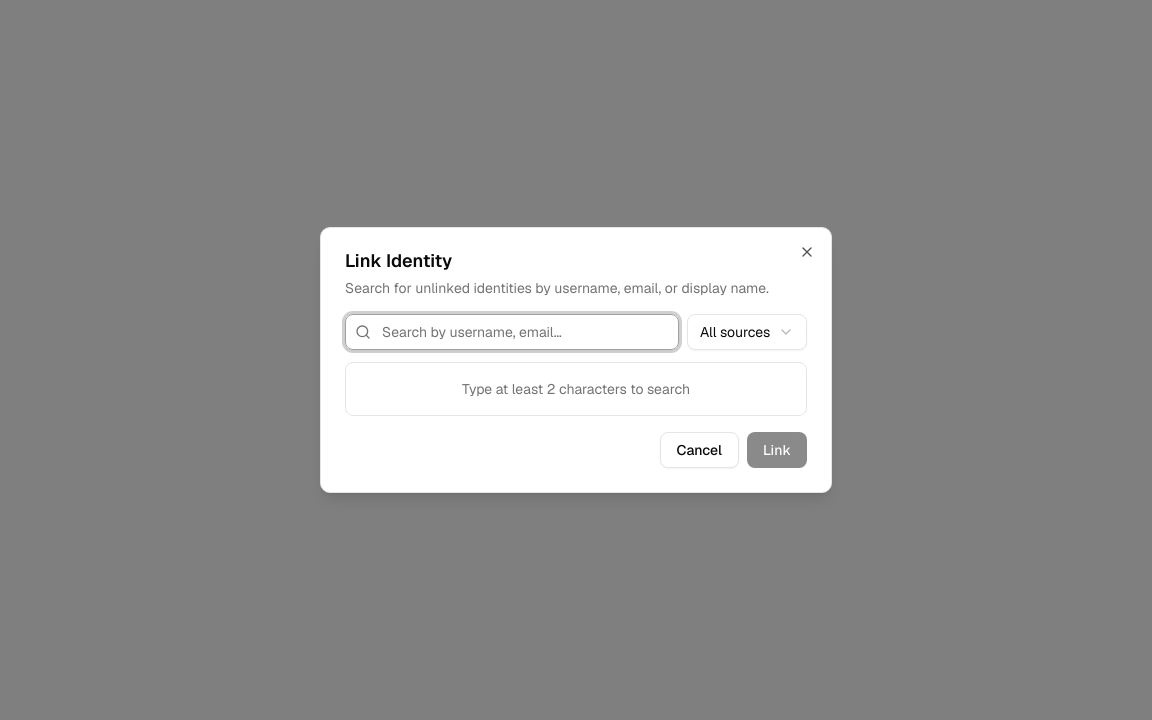
Test case: LinkIdentityDialog › selects an identity and enables link button
Type "alice" into the field with placeholder "Search by username, email…". click: x=512, y=332
box: x1=345 y1=314 x2=679 y2=350
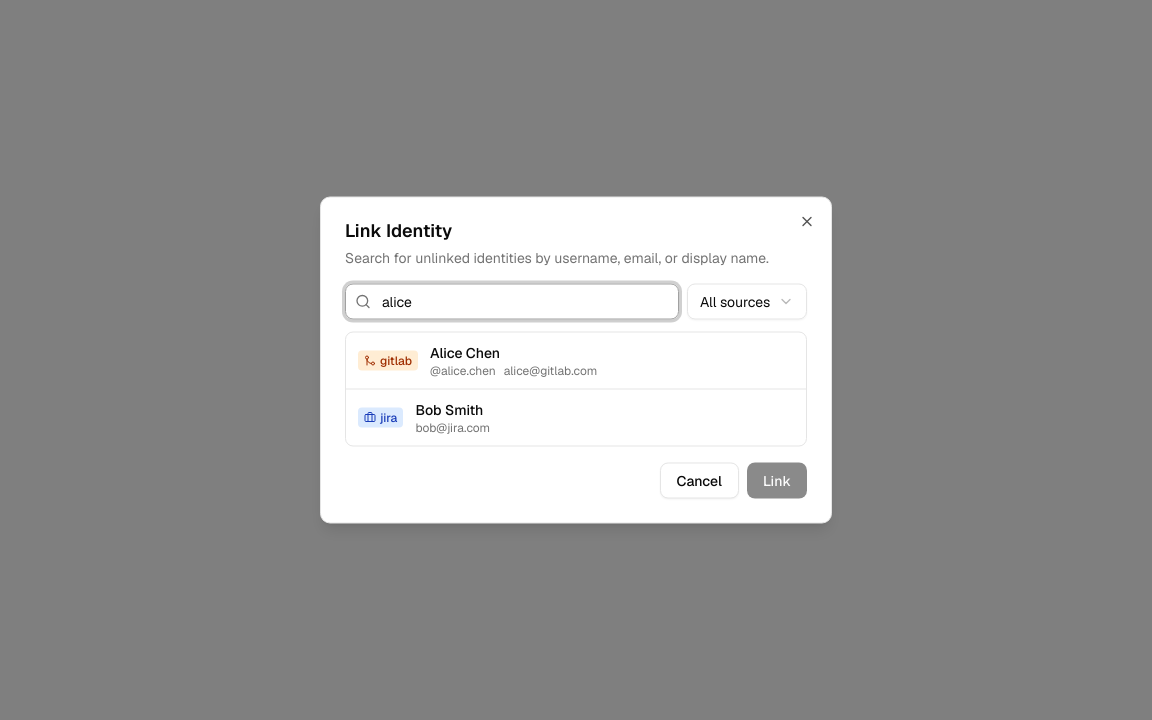
// Click on Alice to select
Click the text "Alice Chen". click: x=465, y=352
box: x1=430 y1=342 x2=500 y2=362
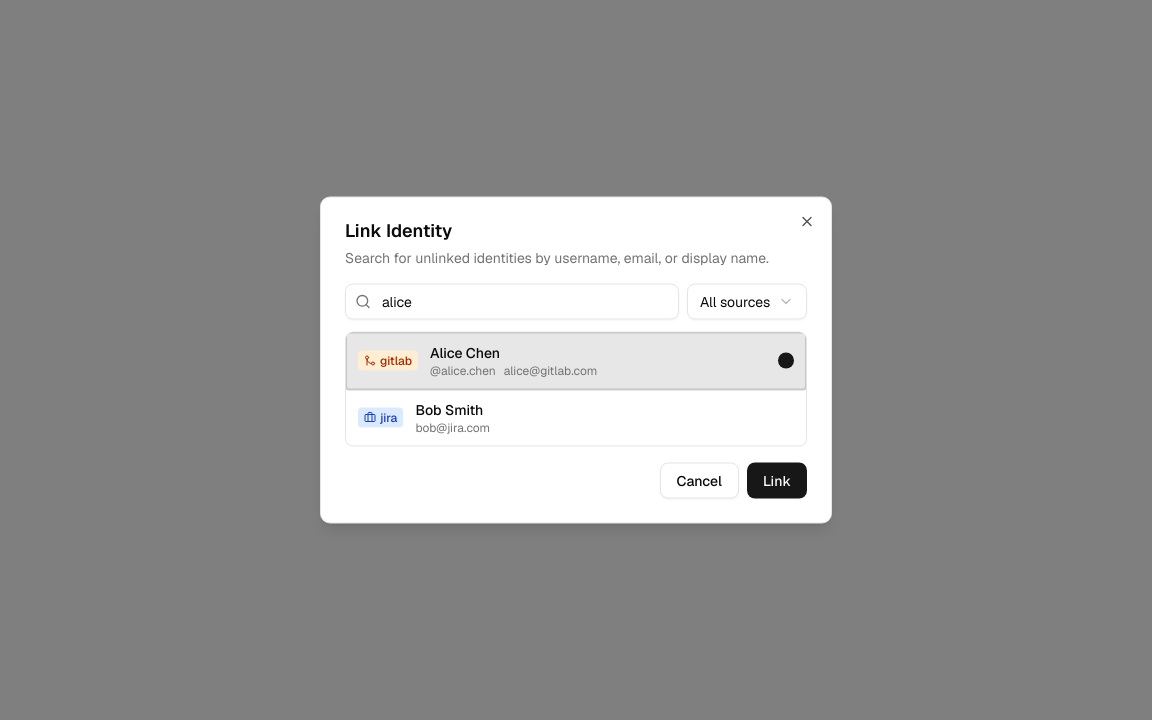
Now the button "Link" is enabled, box x1=747 y1=462 x2=807 y2=498
